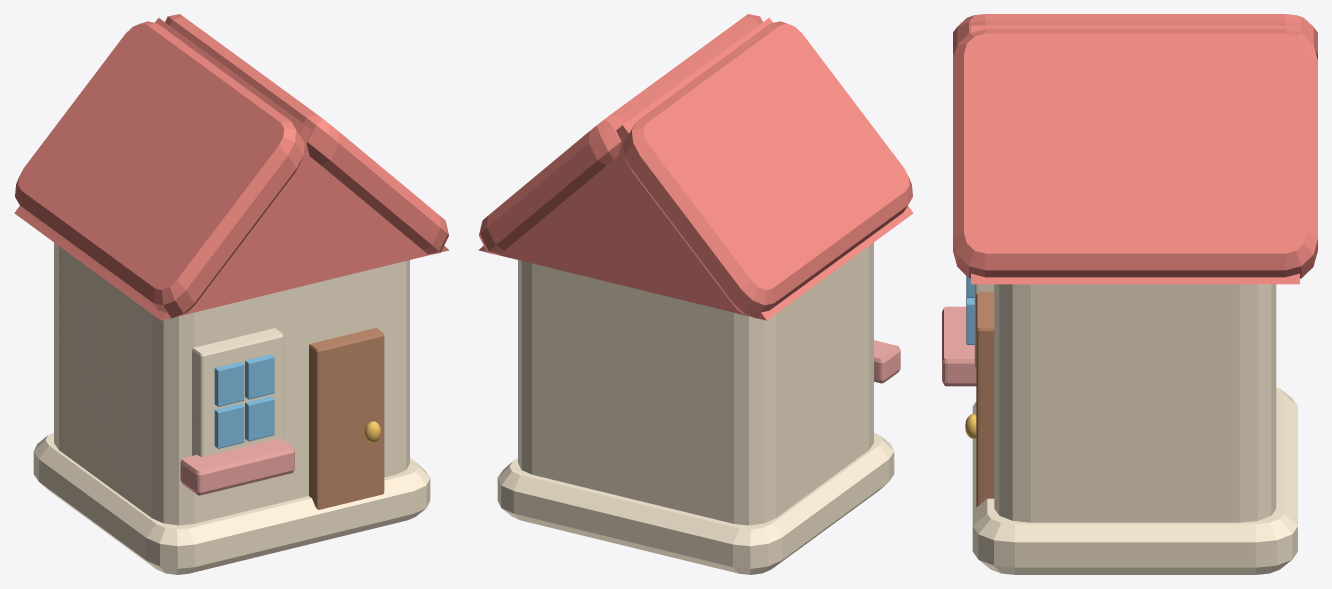
Rendered from security_booth.glb.
The picture shows the model from 3 angles, left to right: view 1: azimuth 30°, elevation 25°; view 2: azimuth 150°, elevation 25°; view 3: azimuth 270°, elevation 25°; orthographic projection. The views are drawn at different scales.
Visible parts, largest first — view 1: roof, walls, model, foundation, door, window_frame; view 2: walls, roof, model, foundation; view 3: roof, walls, foundation, model, door.
Part boxes in pixels (left/top/right/bottom): roof: left=15, top=14, right=448, bottom=318; walls: left=54, top=242, right=409, bottom=525; model: left=14, top=17, right=449, bottom=495; foundation: left=33, top=432, right=430, bottom=574; door: left=309, top=328, right=384, bottom=509; window_frame: left=192, top=328, right=283, bottom=456; walls: left=518, top=242, right=873, bottom=525; roof: left=479, top=14, right=912, bottom=318; model: left=478, top=17, right=913, bottom=383; foundation: left=497, top=432, right=894, bottom=574; roof: left=953, top=14, right=1317, bottom=278; walls: left=994, top=284, right=1276, bottom=522; foundation: left=972, top=387, right=1297, bottom=574; model: left=942, top=25, right=1299, bottom=438; door: left=976, top=291, right=994, bottom=506.
Bounding box in the file's own units: 1.2 × 1.7 × 1.2.
